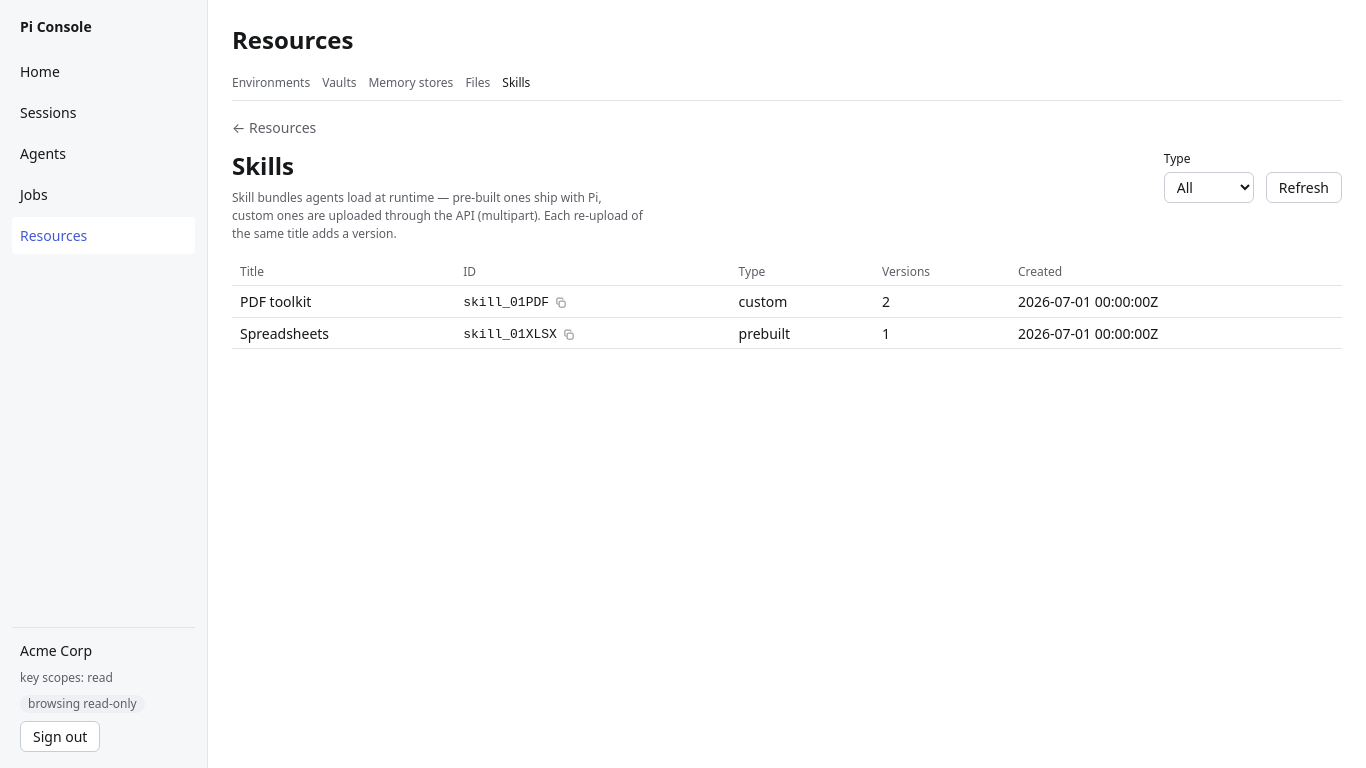
Test: skills (§9.5) › row activation opens the panel with the version history
Click the text "PDF toolkit" at (276, 302), box [232,286,455,317]
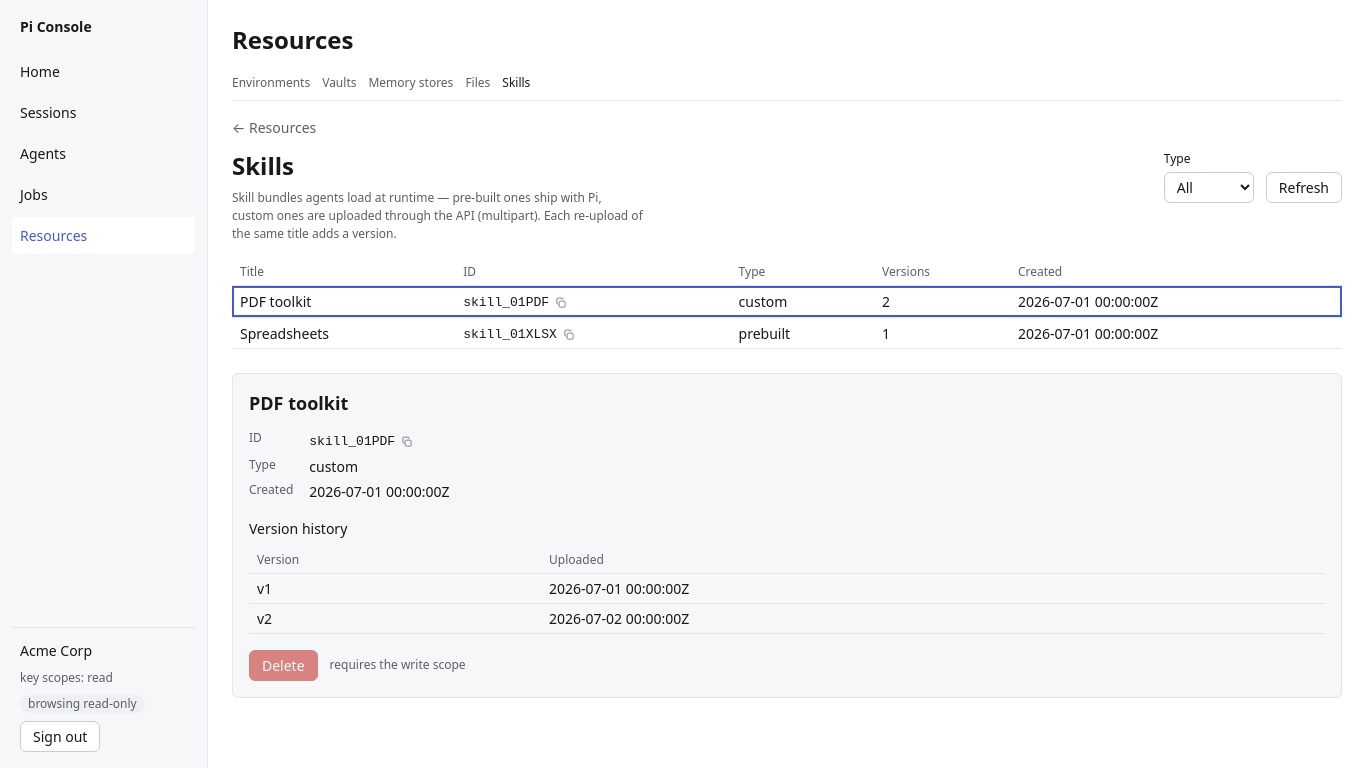
Result: the text "v1" is shown at [249,574,541,603]
Result: the text "v2" is shown at [249,603,541,633]
